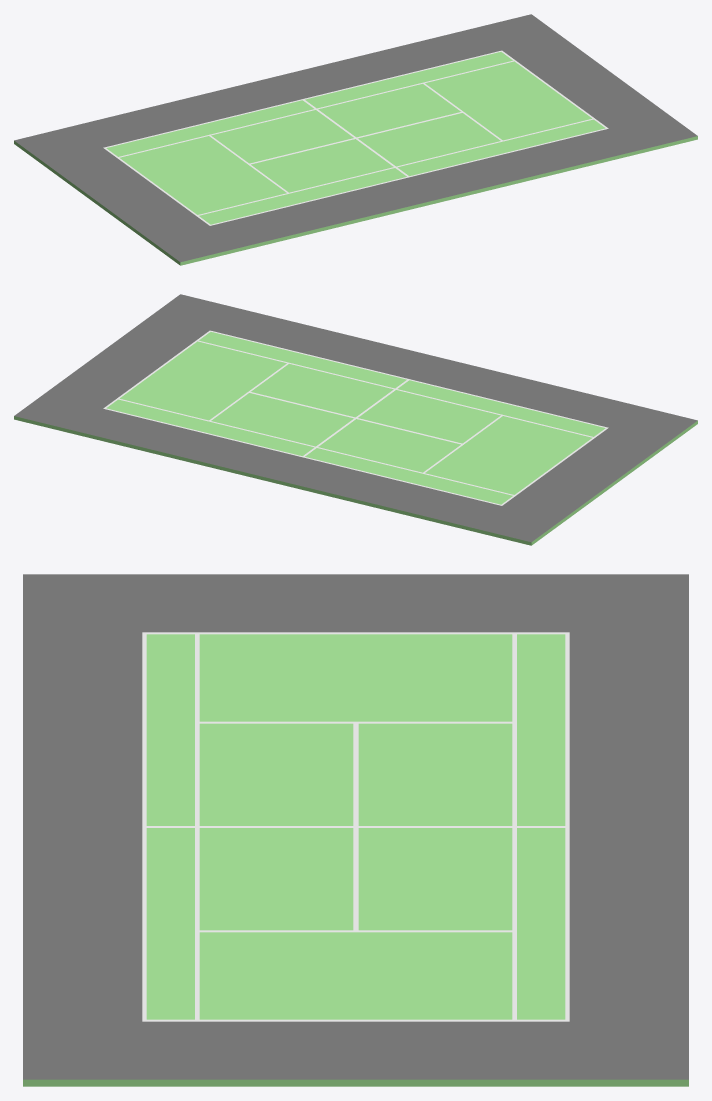
The model's file is ENV_URB_TennisCourt.fbx.
3 views of the same model, one above another, from view 1: azimuth 30°, elevation 25°; view 2: azimuth 150°, elevation 25°; view 3: azimuth 270°, elevation 25° (orthographic). The views are drawn at different scales.
Visible parts, largest first — view 1: Box001; view 2: Box001; view 3: Box001.
Boxes of the visible parts, x1,y1,x2,y2 form: Box001: (14,14,697,265); Box001: (14,294,697,545); Box001: (23,574,688,1086).
Bounding box in the file's own units: 3097 × 20.07 × 1726.
